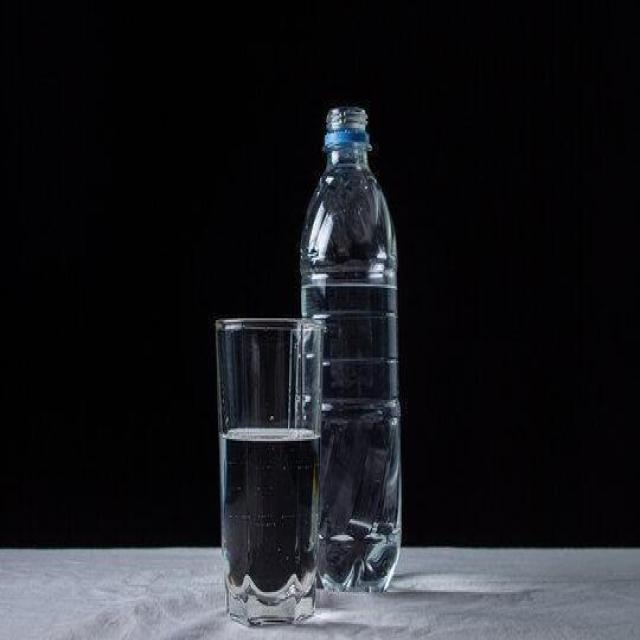plastic bottle: (298, 100, 406, 598)
